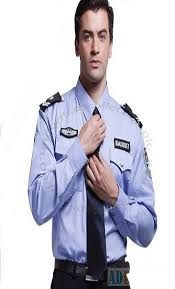uniform: (43, 88, 144, 265)
